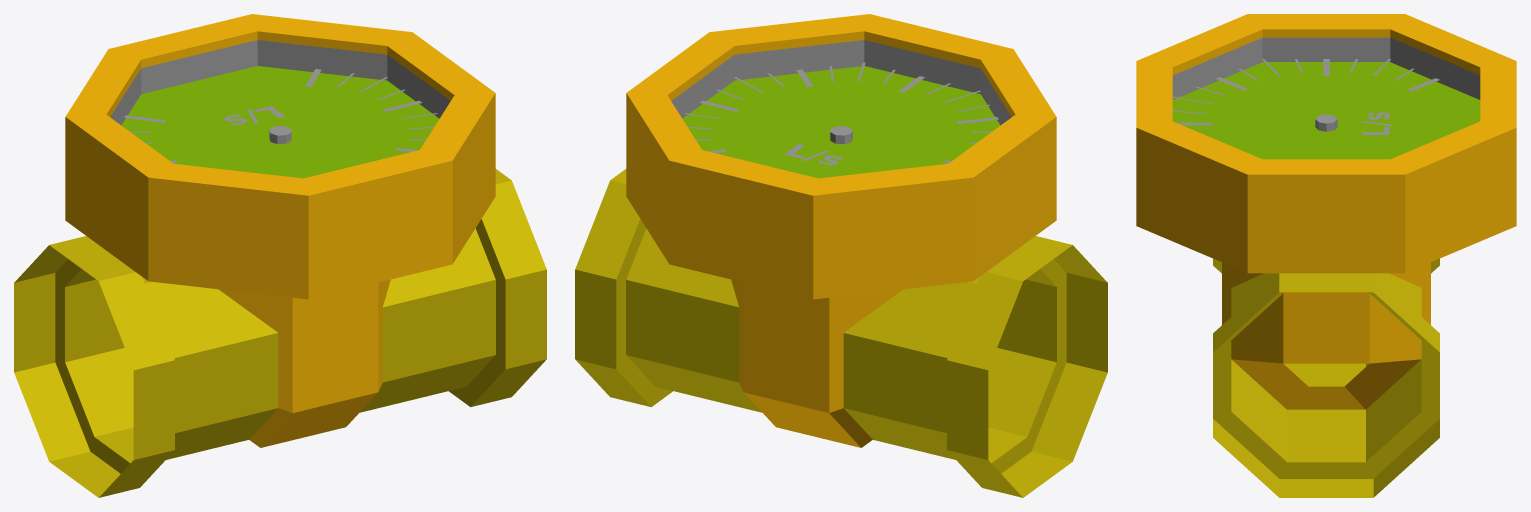
File: fpe_flow_meter.dae
3 views of the same model, side by side, from view 1: azimuth 30°, elevation 25°; view 2: azimuth 150°, elevation 25°; view 3: azimuth 270°, elevation 25° (orthographic). The views are drawn at different scales.
Visible parts, largest first — view 1: flow_meter; view 2: flow_meter; view 3: flow_meter.
Boxes of the visible parts, left/top/right/bottom form: flow_meter: left=14, top=14, right=546, bottom=497; flow_meter: left=575, top=14, right=1107, bottom=497; flow_meter: left=1136, top=14, right=1516, bottom=497.
Size of the model in its own units: 0.25 by 0.21 by 0.1877.
